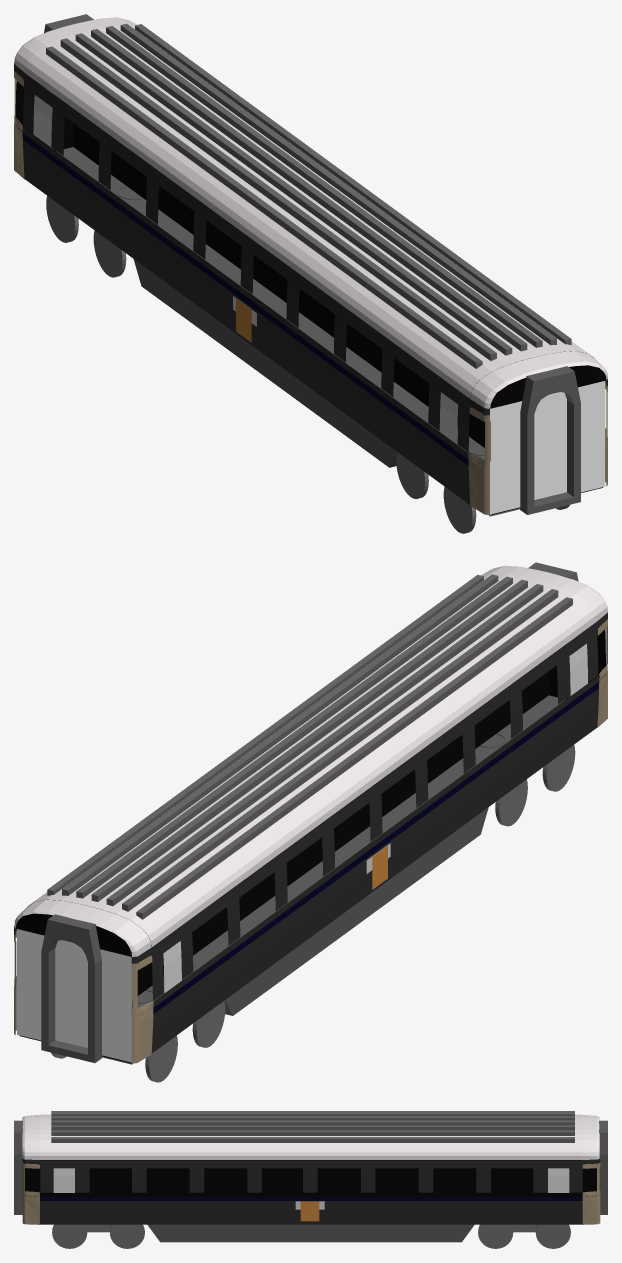
The picture shows the model from 3 angles, top to bottom: view 1: azimuth 30°, elevation 25°; view 2: azimuth 150°, elevation 25°; view 3: azimuth 270°, elevation 25°; orthographic projection. The views are drawn at different scales.
Visible parts, largest first — view 1: Suzanne_001, Plane_007, Plane_001, Plane_111, Cube_010, Cube, Cube_011, Cube_008, Cube_009, Cube_004, Plane_002, Cube_002 (+15 smaller); view 2: Suzanne_001, Plane_007, Plane_100, Plane_111, Cube, Cube_010, Cube_011, Cube_008, Cube_009, Cube_004, Plane_002, Cube_002 (+14 smaller); view 3: Plane_134, Plane_111, Suzanne_001, Cube, Cube_002, Cube_003, Cube_004, Cube_008, Plane_135, Plane_136, Cube_009, Cube_010 (+28 smaller).
Part boxes in pixels (<box>): Suzanne_001: <box>24,24,593,398</box>; Plane_007: <box>23,140,470,504</box>; Plane_001: <box>490,381,605,514</box>; Plane_111: <box>73,109,484,447</box>; Cube_010: <box>60,38,496,360</box>; Cube: <box>133,259,396,467</box>; Cube_011: <box>46,46,482,368</box>; Cube_008: <box>91,29,527,351</box>; Cube_009: <box>75,33,512,355</box>; Cube_004: <box>106,26,542,347</box>; Plane_002: <box>56,147,489,468</box>; Cube_002: <box>120,23,556,345</box>; Suzanne_001: <box>28,573,596,947</box>; Plane_007: <box>151,688,598,1053</box>; Plane_100: <box>17,929,132,1062</box>; Plane_111: <box>135,657,548,995</box>; Cube: <box>224,807,488,1015</box>; Cube_010: <box>122,589,558,911</box>; Cube_011: <box>136,597,572,919</box>; Cube_008: <box>91,579,527,901</box>; Cube_009: <box>106,584,543,906</box>; Cube_004: <box>76,576,512,898</box>; Plane_002: <box>133,695,565,1016</box>; Cube_002: <box>62,574,498,895</box>; Plane_134: <box>40,1201,582,1224</box>; Plane_111: <box>25,1159,596,1196</box>; Suzanne_001: <box>40,1114,582,1159</box>; Cube: <box>147,1224,474,1242</box>; Cube_002: <box>51,1130,574,1135</box>; Cube_003: <box>51,1137,574,1142</box>; Cube_004: <box>51,1125,574,1130</box>; Cube_008: <box>51,1120,574,1125</box>; Plane_135: <box>40,1160,582,1164</box>; Plane_136: <box>40,1164,582,1168</box>; Cube_009: <box>51,1116,574,1120</box>; Cube_010: <box>51,1112,574,1116</box>.
Bounding box in the file's own units: 2.14 × 13.39 × 2.81.
